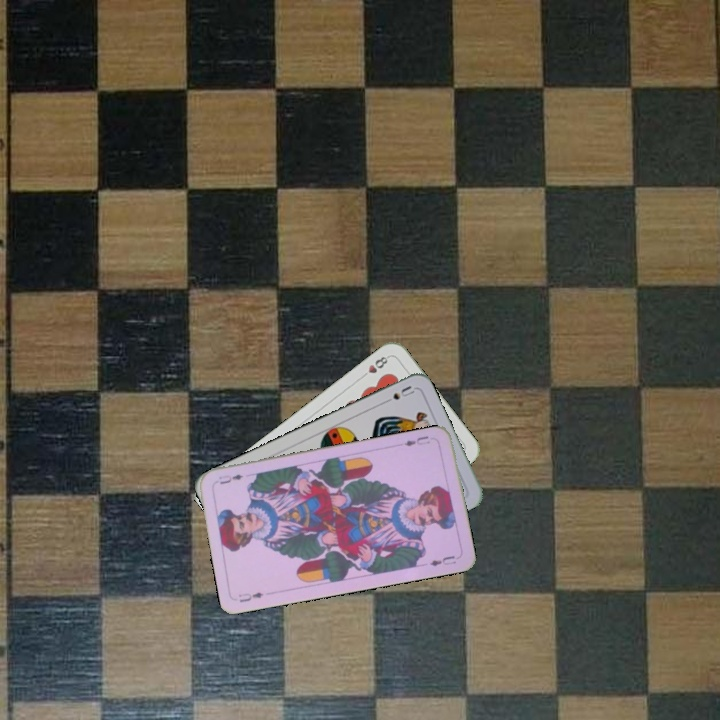EU: (400, 432, 432, 449), (234, 588, 266, 605)
H8: (357, 352, 392, 381)
SU: (379, 381, 417, 407)
